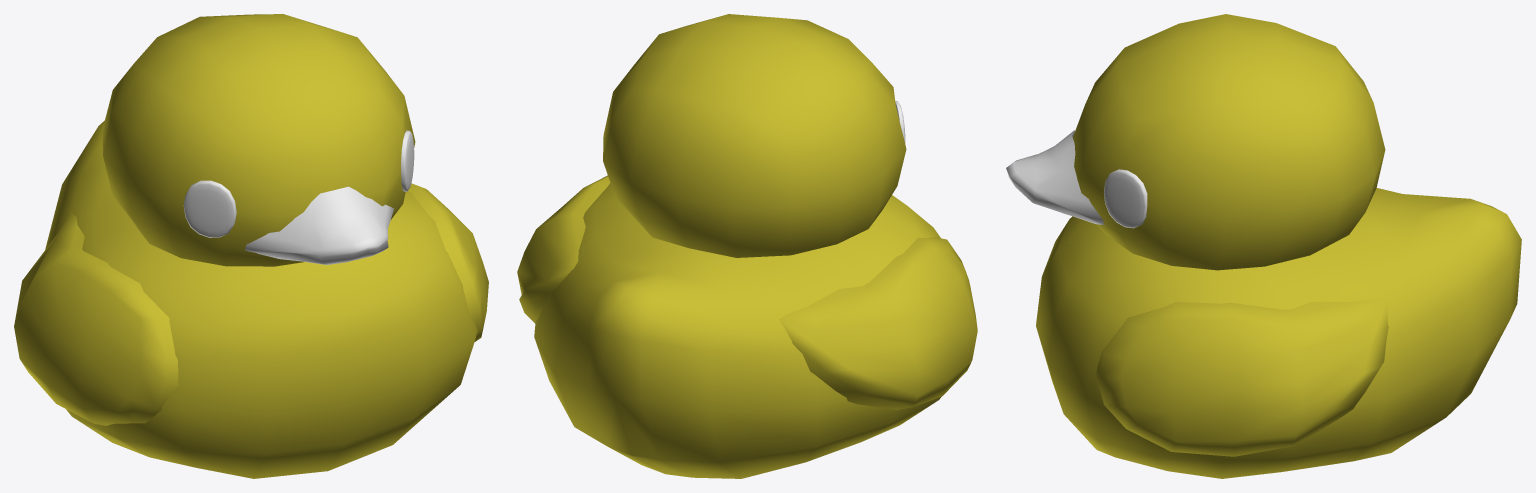
The model's file is RubberDuck.fbx.
3 renders of one model, left to right at view 1: azimuth 30°, elevation 25°; view 2: azimuth 150°, elevation 25°; view 3: azimuth 270°, elevation 25°, orthographic. The views are drawn at different scales.
Parts seen in each view (by area): view 1: Duck; view 2: Duck; view 3: Duck.
Boxes of the visible parts, x1,y1,x2,y2 form: Duck: (14, 14, 488, 478); Duck: (517, 14, 977, 478); Duck: (1006, 14, 1521, 478).
Bounding box in the file's own units: 112 × 103 × 120.
